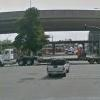Bridge: (4, 2, 91, 39)
